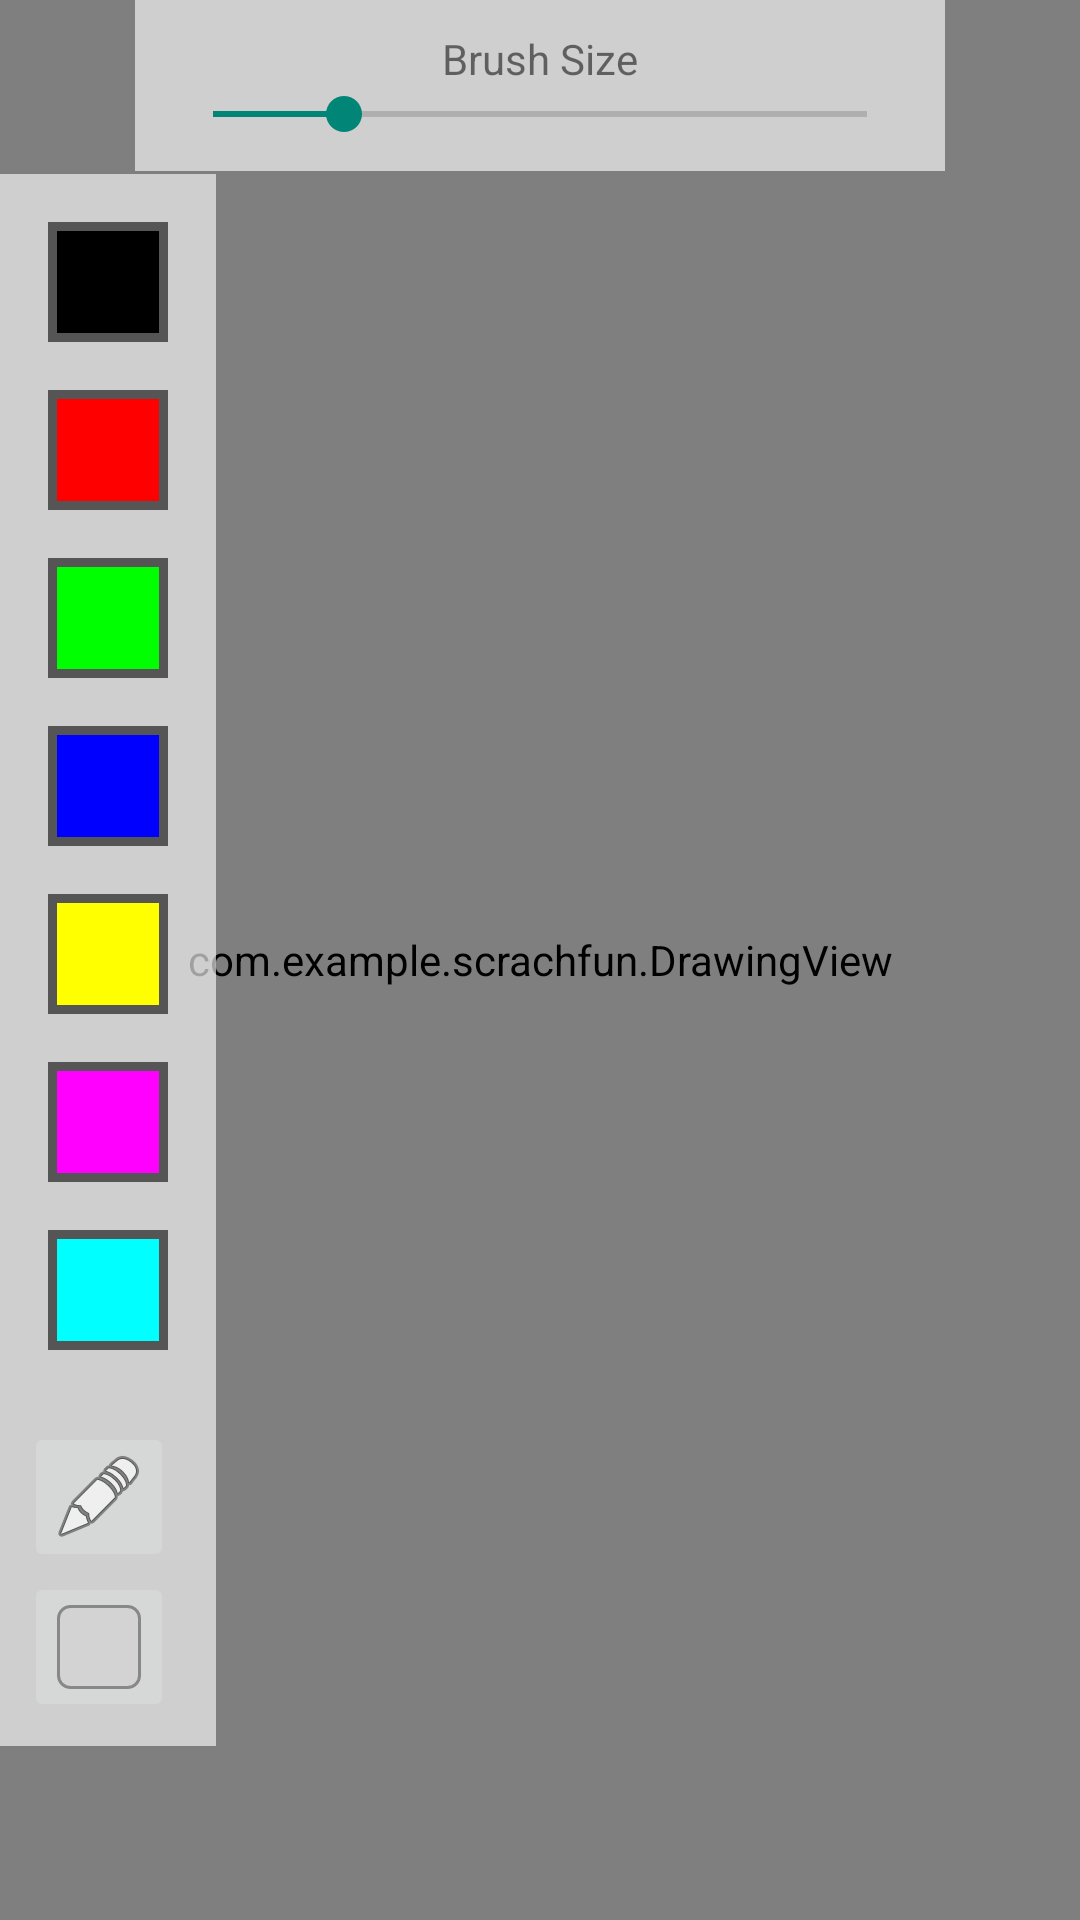

Screen size 1080 × 1920. Icon name, then its box in pixels as (x1, y1, x2, y2):
edit: (58, 1456, 139, 1537)
